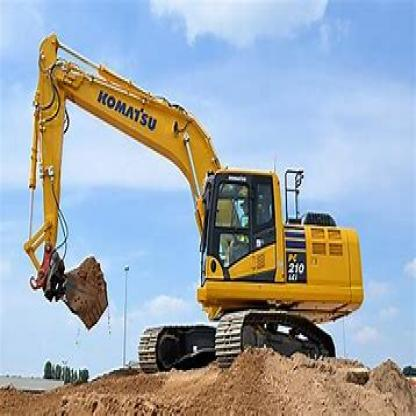excavator: (21, 19, 366, 376)
